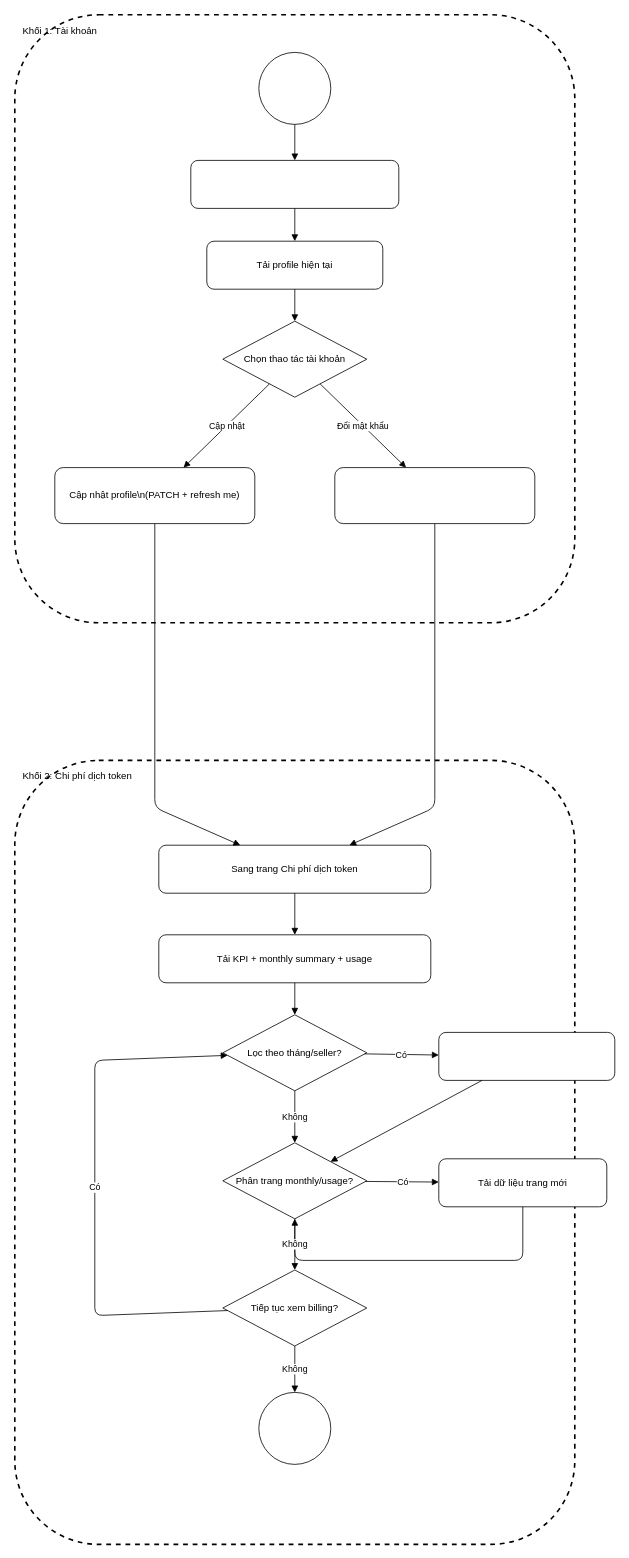
Image size: 629x1558. Some labels were removed from this diagram. Here are the shapes that lost their labels. From the top down, the centre of each, then its label:
At (x=294, y=88): "Bắt đầu".
At (x=294, y=184): "Mở trang Tài khoản".
At (x=434, y=495): "Đổi mật khẩu\n(validate + PATCH)".
At (x=526, y=1056): "Reset page + gọi lại API".
At (x=294, y=1428): "Kết thúc".
